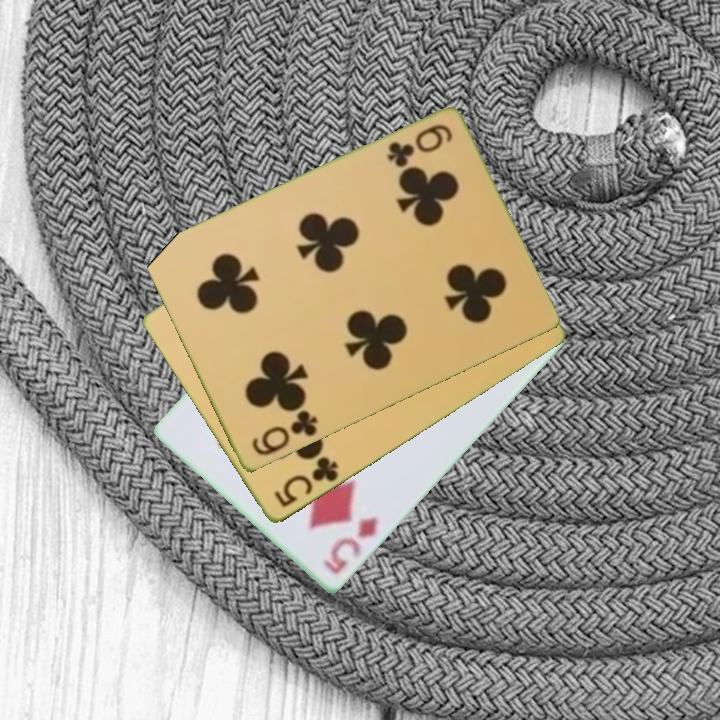5c: (270, 453, 341, 511)
5d: (319, 513, 381, 578)
6c: (248, 407, 321, 459), (383, 121, 456, 171)
